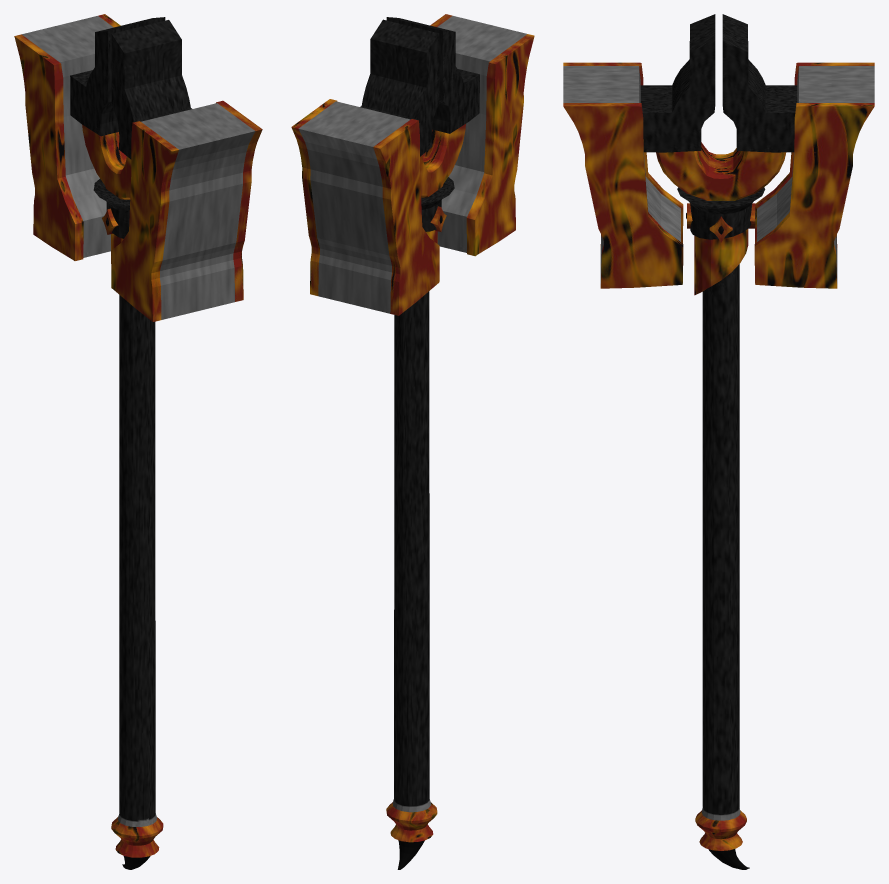
Rendered from MarteloSois.fbx.
3 renders of one model, left to right at view 1: azimuth 30°, elevation 25°; view 2: azimuth 150°, elevation 25°; view 3: azimuth 270°, elevation 25°, orthographic. The views are drawn at different scales.
Parts seen in each view (by area): view 1: MarteloSois; view 2: MarteloSois; view 3: MarteloSois.
Part boxes in pixels (left/top/right/bottom): MarteloSois: left=14, top=14, right=262, bottom=869; MarteloSois: left=291, top=14, right=534, bottom=869; MarteloSois: left=563, top=14, right=874, bottom=869.
Size of the model in its own units: 18.28 by 164 by 55.02.
